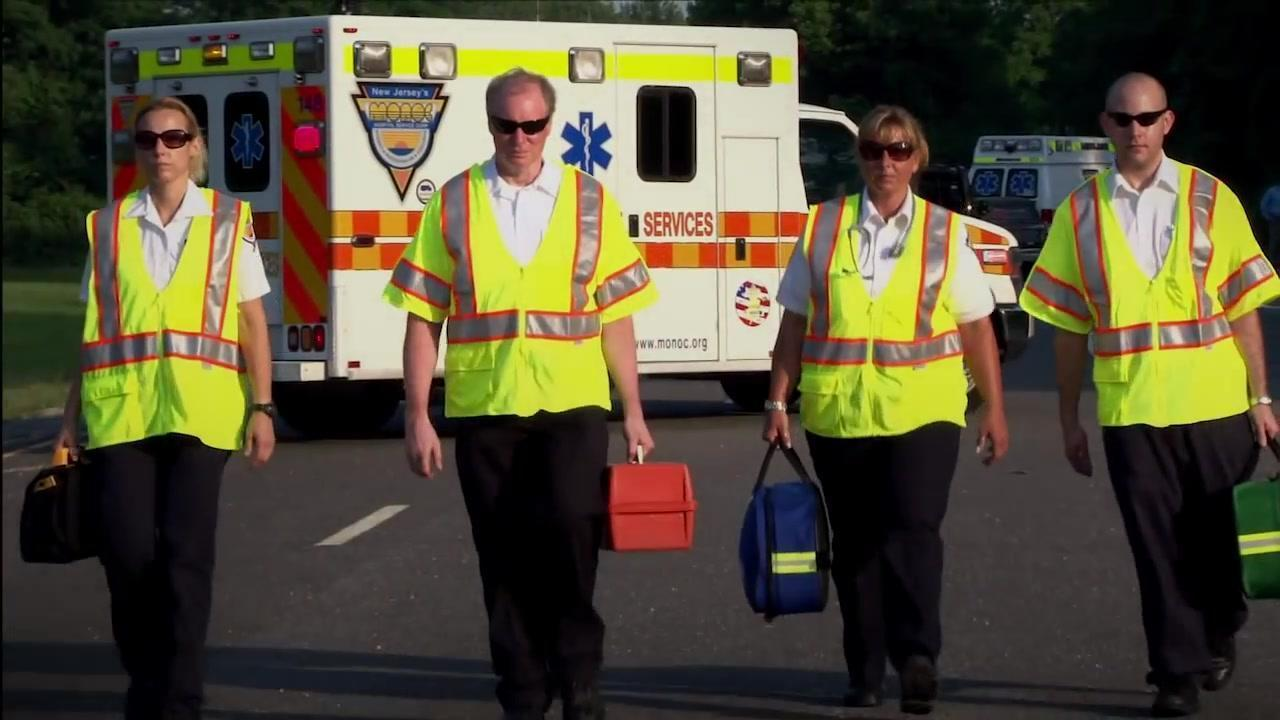Glass: (385, 158, 658, 421), (1024, 160, 1279, 426), (73, 184, 257, 447), (789, 196, 984, 435)
